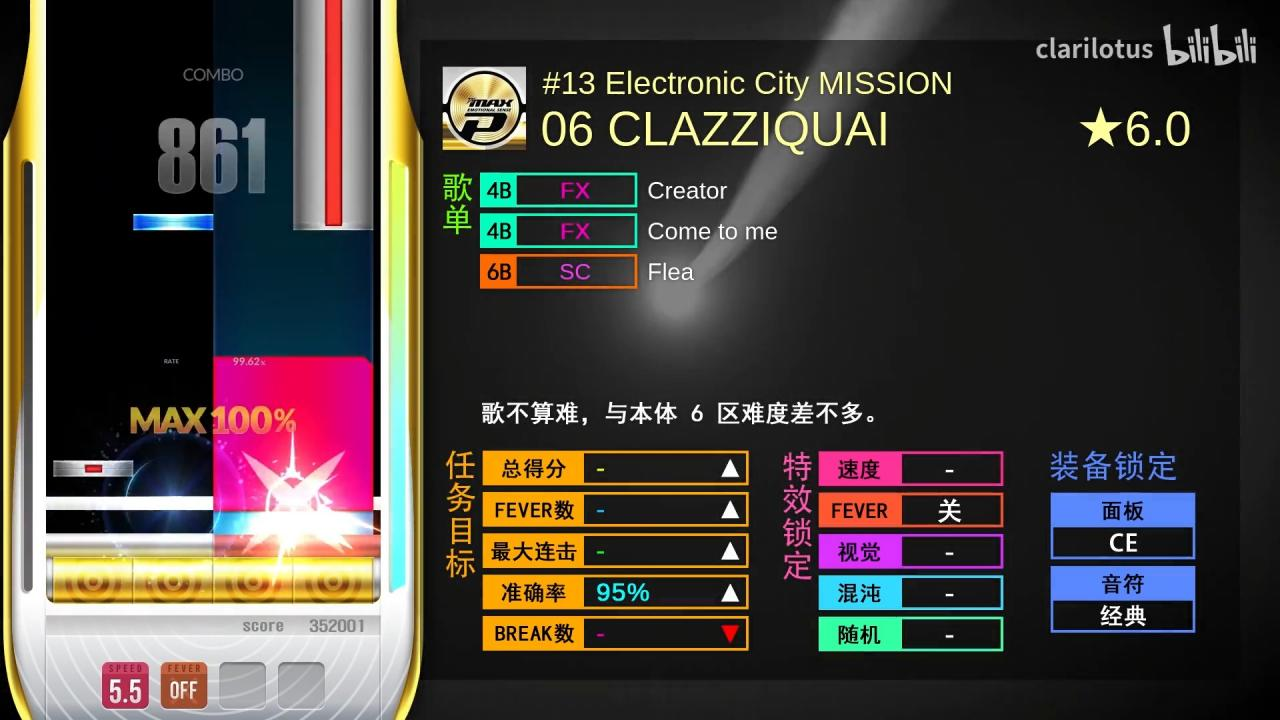hold-start: (293, 212, 374, 230)
note: (132, 213, 214, 231), (53, 460, 134, 477)
xend: (212, 355, 374, 377)
